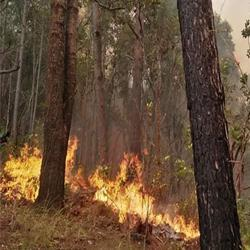fire: (104, 179, 150, 212), (7, 155, 39, 195)
